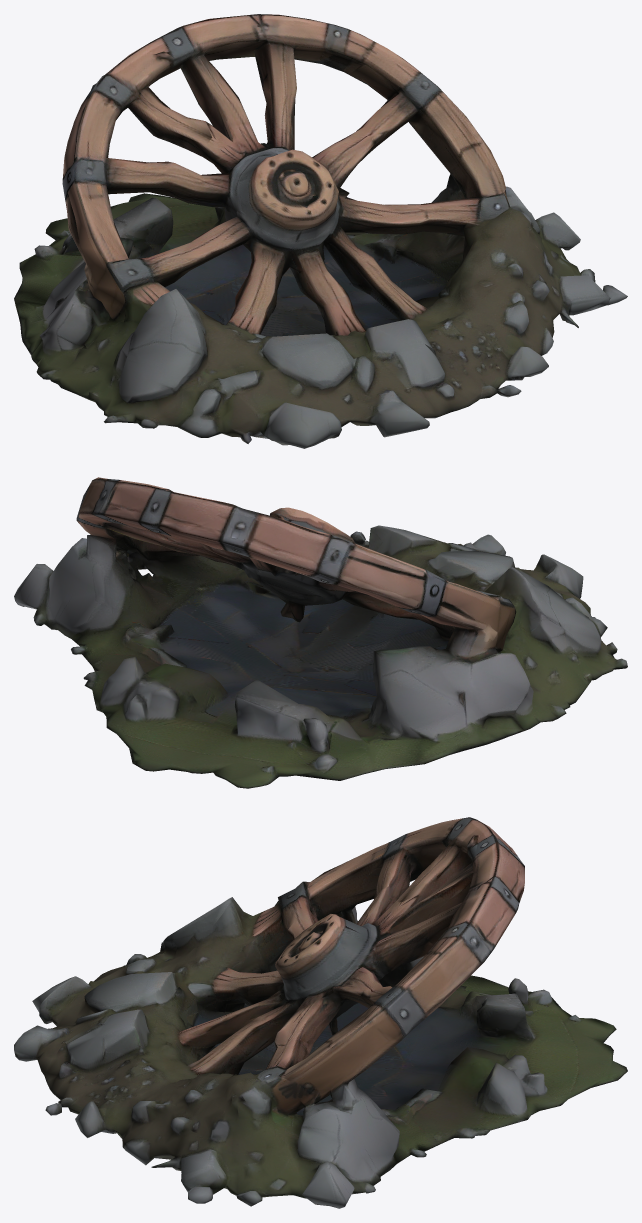
Rendered from wheel.glb.
3 renders of one model, top to bottom at view 1: azimuth 30°, elevation 25°; view 2: azimuth 150°, elevation 25°; view 3: azimuth 270°, elevation 25°, orthographic. The views are drawn at different scales.
Size of the model in its own units: 1.98 by 0.8457 by 2.
Materials: 1 (1 with a texture image).
